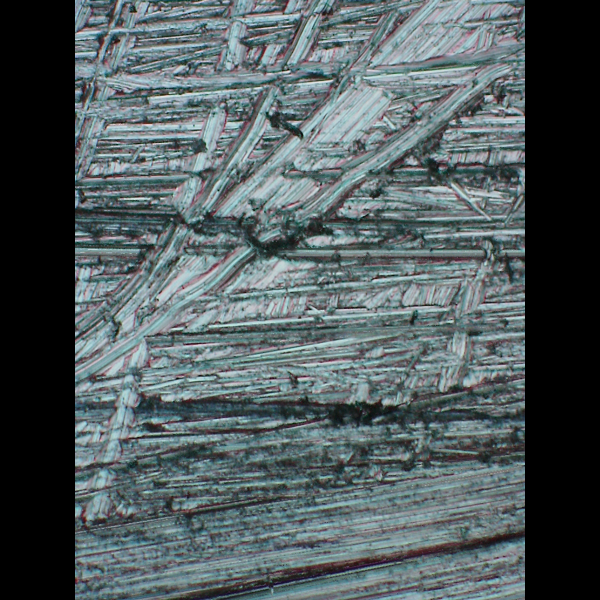d: (75, 0, 502, 397)
